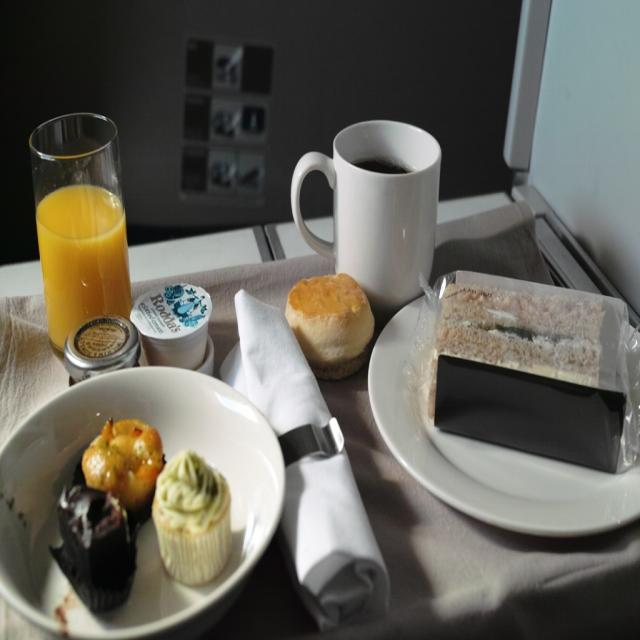Coffee: (348, 150, 416, 175)
Tea: (357, 156, 415, 174)
